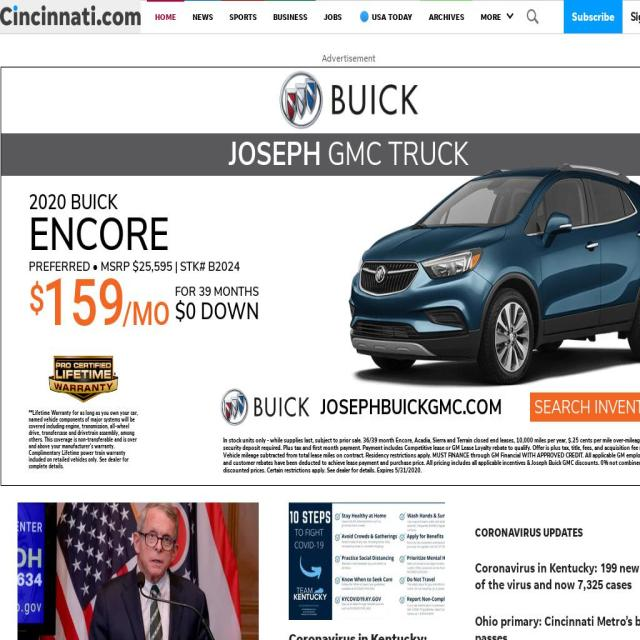button: (18, 502, 258, 640), (289, 502, 445, 640), (0, 0, 140, 33), (350, 0, 420, 33), (563, 0, 622, 33), (420, 0, 472, 33), (265, 0, 315, 33), (472, 0, 520, 33), (221, 0, 265, 33), (146, 0, 184, 33), (184, 0, 221, 33), (315, 0, 350, 33), (520, 0, 545, 33), (622, 0, 640, 33)
heading: (475, 559, 640, 593), (475, 612, 640, 640), (288, 629, 434, 640)
iframe: (0, 0, 640, 640), (0, 66, 640, 485)
image: (18, 502, 258, 640), (289, 502, 445, 620), (0, 0, 140, 33), (563, 0, 622, 33)
text: (0, 50, 640, 66), (475, 523, 640, 541), (350, 0, 420, 33), (563, 0, 622, 33), (420, 0, 472, 33), (265, 0, 315, 33), (221, 0, 265, 33), (146, 0, 184, 33), (184, 0, 221, 33), (315, 0, 350, 33), (520, 0, 545, 33), (622, 0, 639, 33), (481, 11, 501, 22)
